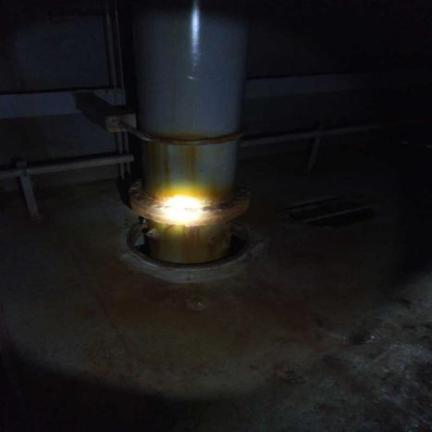karat: (146, 220, 231, 264)
